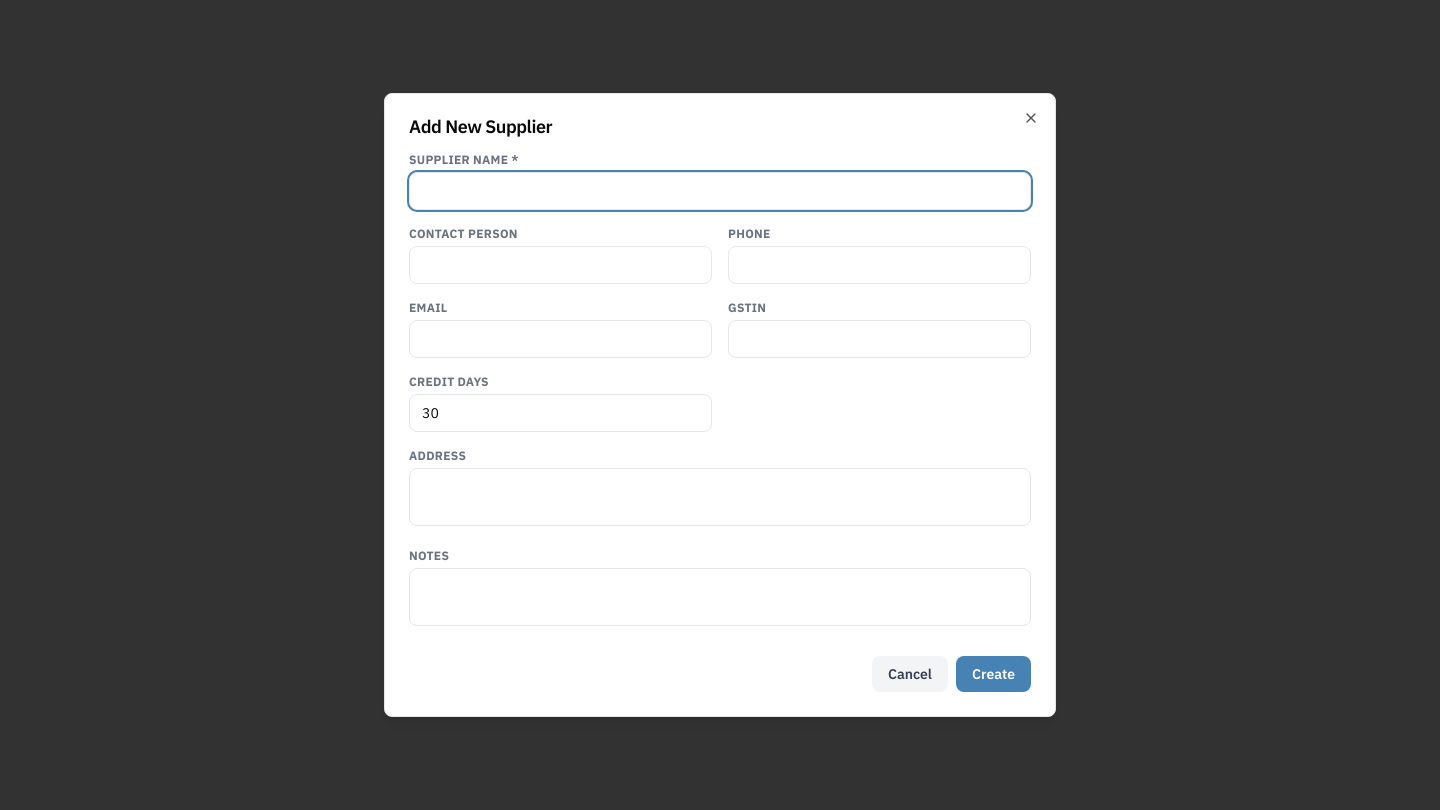
Test case: SupplierFormModal › shows GSTIN validation error for invalid format
Step 1. Type "MedPharma" into the field with test id "supplier-name-input" → point(720, 191), box [409, 172, 1031, 210]
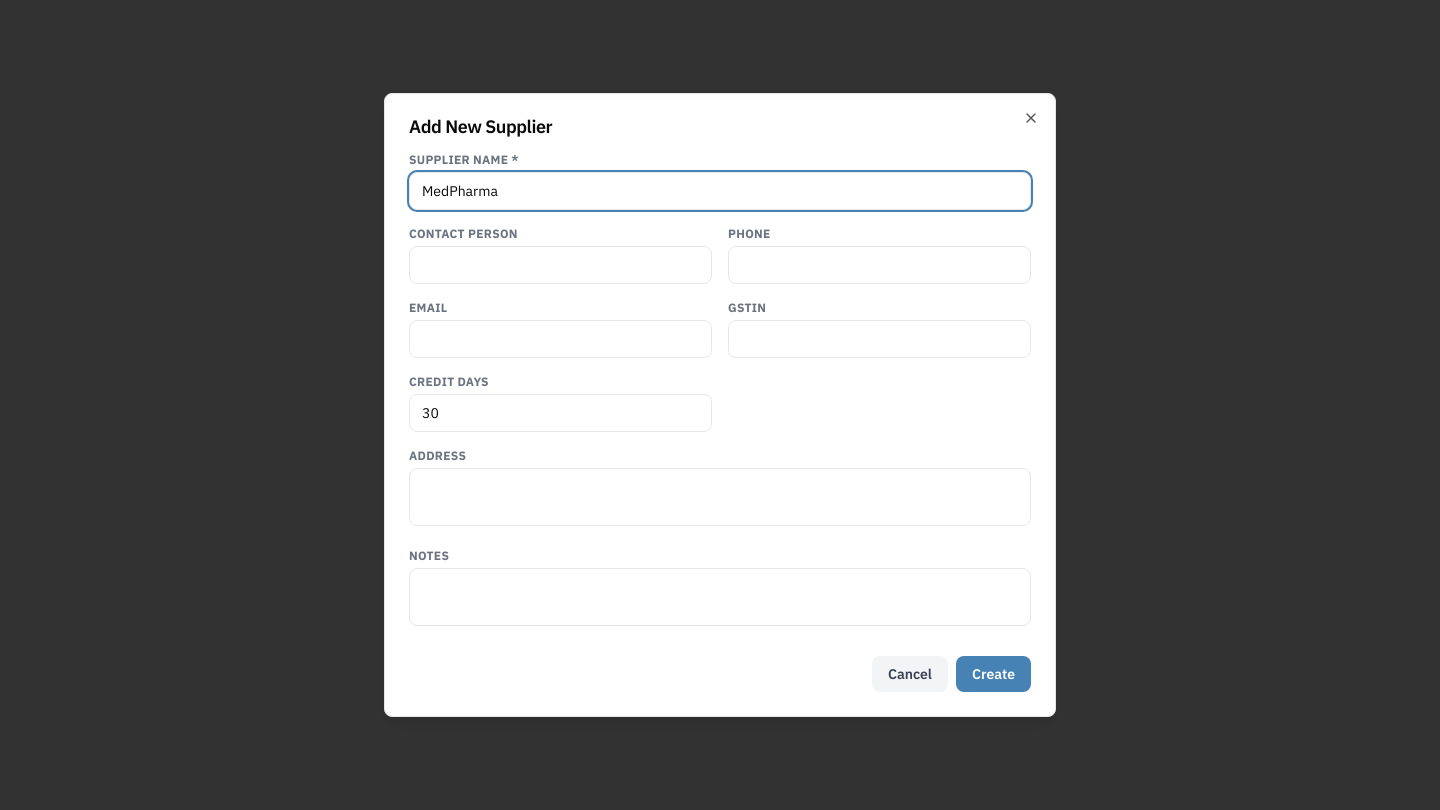
Step 2. Type "INVALIDGSTIN" into the field below "GSTIN" → point(880, 339), box [728, 320, 1031, 358]
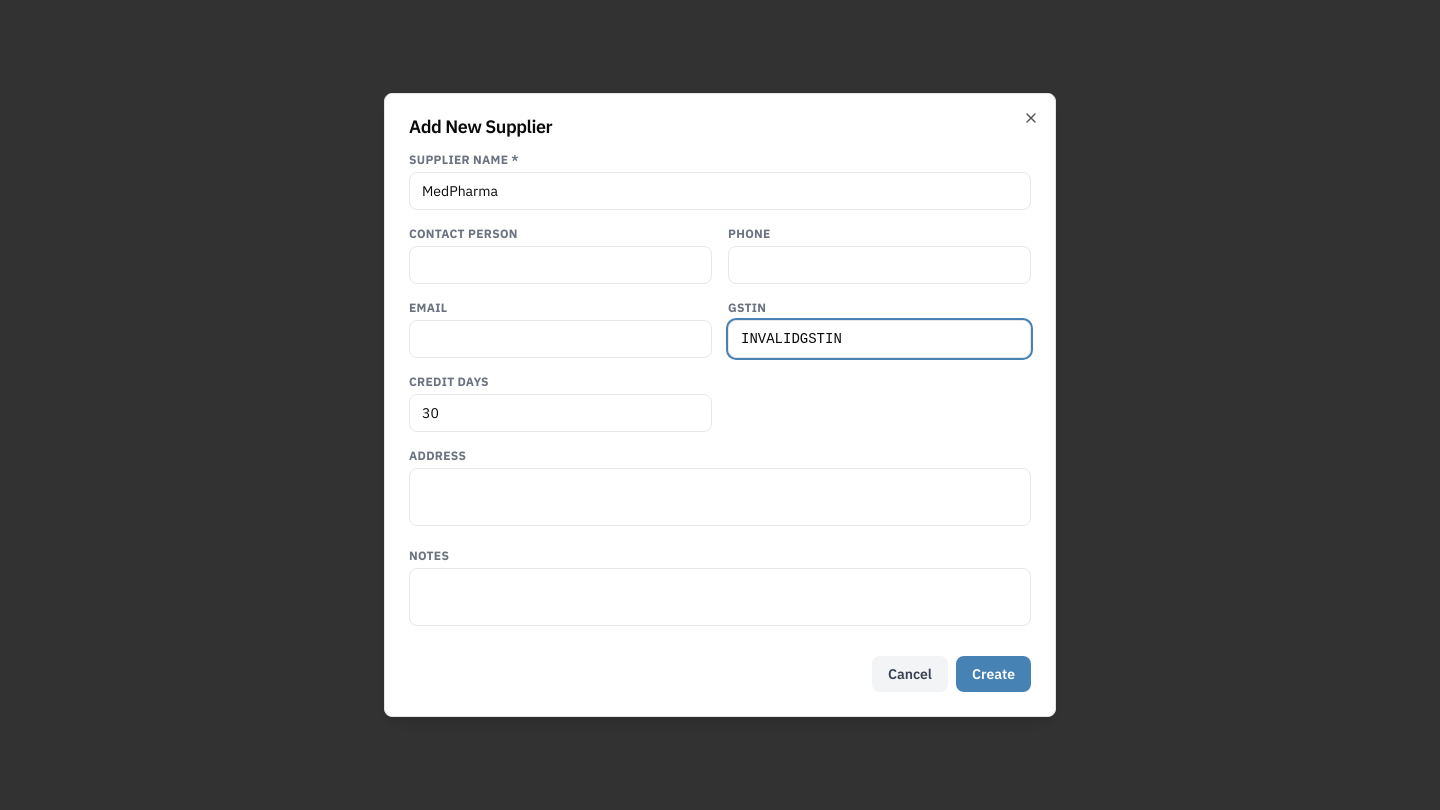
Step 3. Click the button with test id "submit-supplier-btn" → point(994, 674), box [956, 656, 1031, 692]
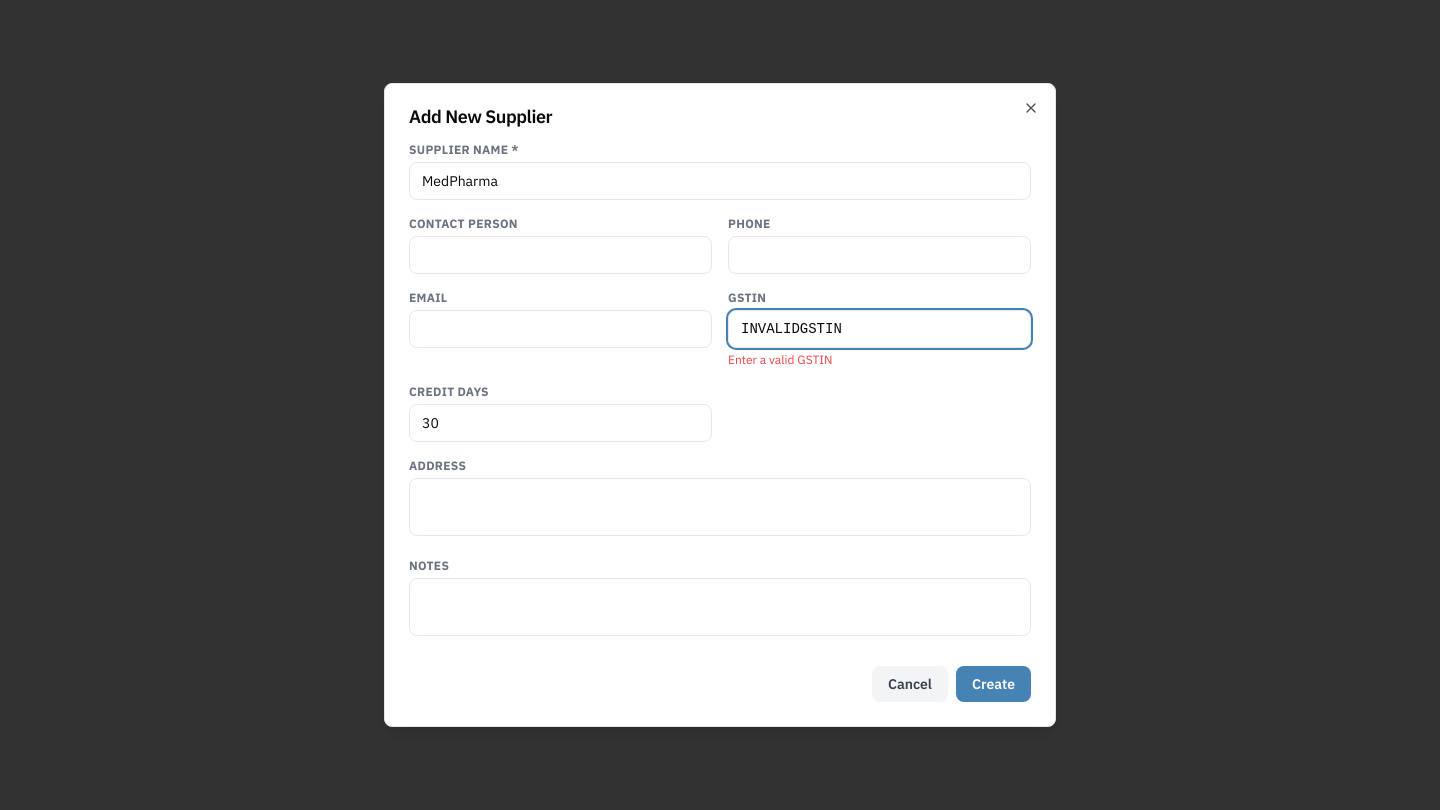
Now the text "Enter a valid GSTIN" is shown, box [728, 352, 832, 367]
